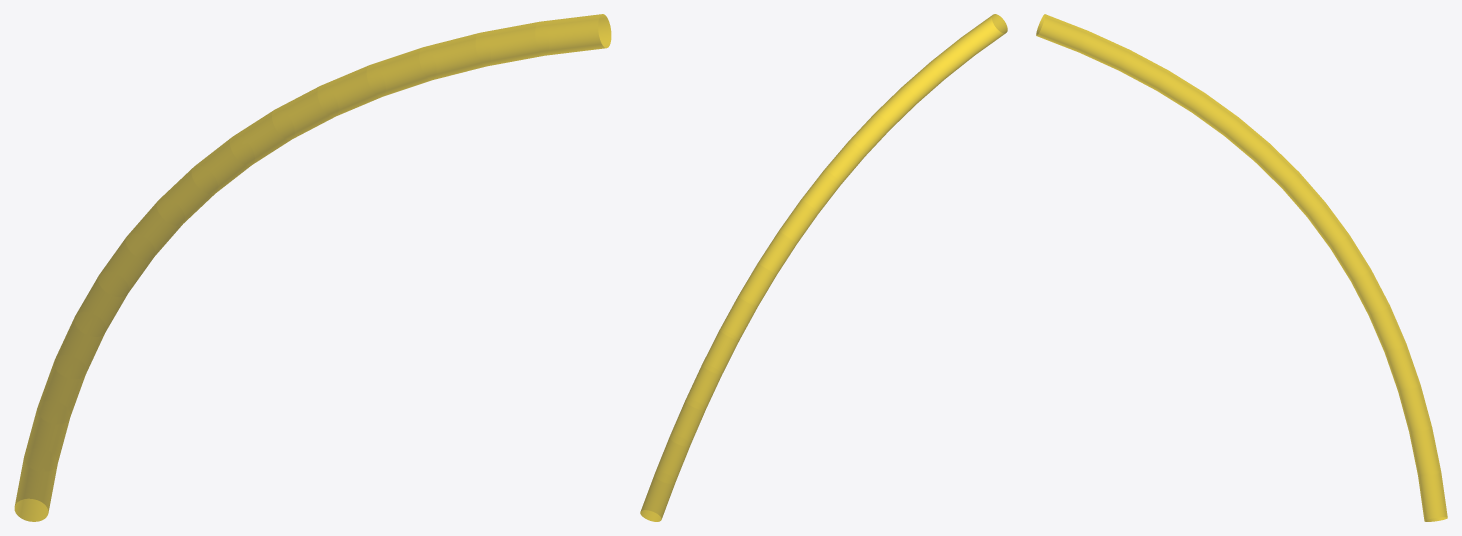
The model's file is Event_15818458_track_28.fbx.
3 views of the same model, side by side, from view 1: azimuth 90°, elevation 25°; view 2: azimuth 150°, elevation 25°; view 3: azimuth 270°, elevation 25° (orthographic). The views are drawn at different scales.
Visible parts, largest first — view 1: Model; view 2: Model; view 3: Model.
Part boxes in pixels (x1,y1,x2,y2): Model: [14, 14, 611, 521]; Model: [640, 14, 1007, 521]; Model: [1036, 14, 1447, 521].
Size of the model in its own units: 0.3647 by 0.791 by 0.6923.
